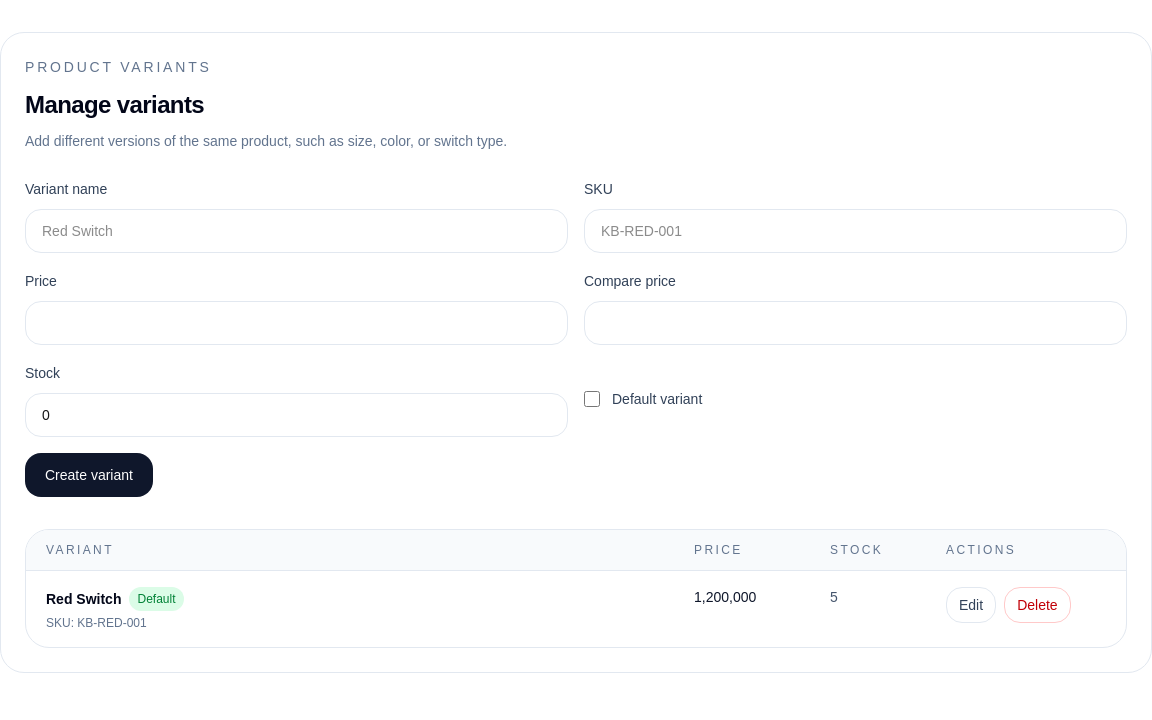
Scenario: SellerProductVariantsManager › deletes a variant and reloads variants
Step 1. Click the button "Delete" → [1037, 605], box [1004, 587, 1071, 623]
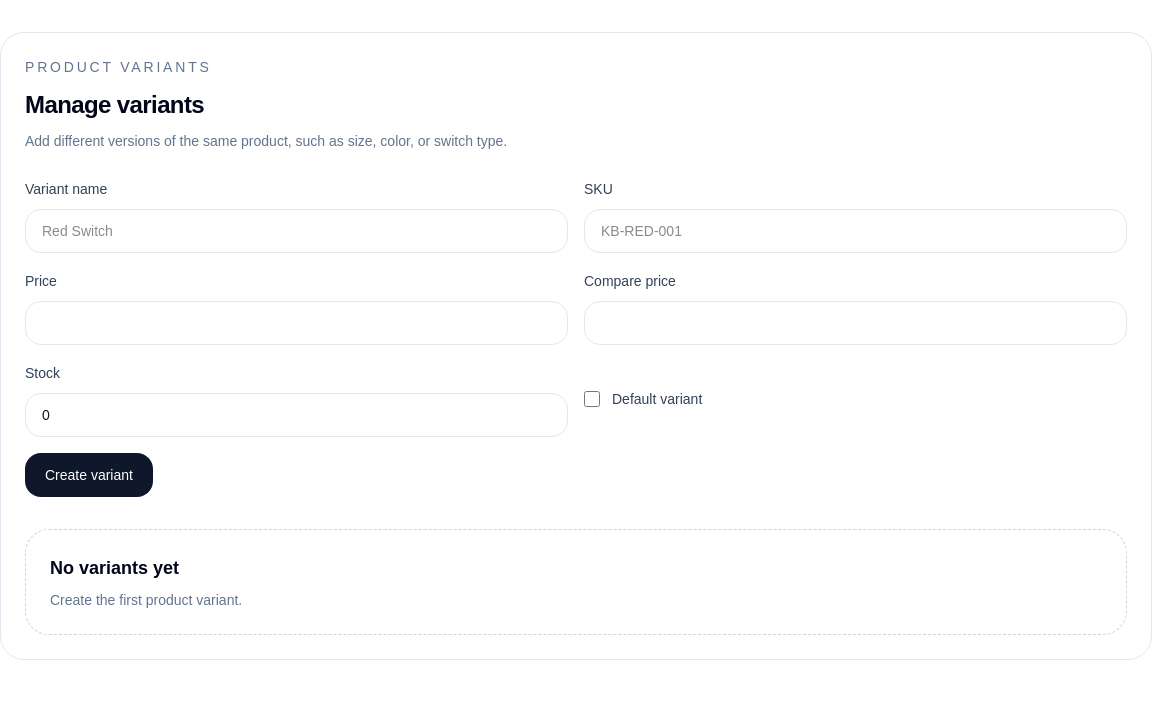
Check: the heading "No variants yet" is shown, box [50, 558, 179, 578]
